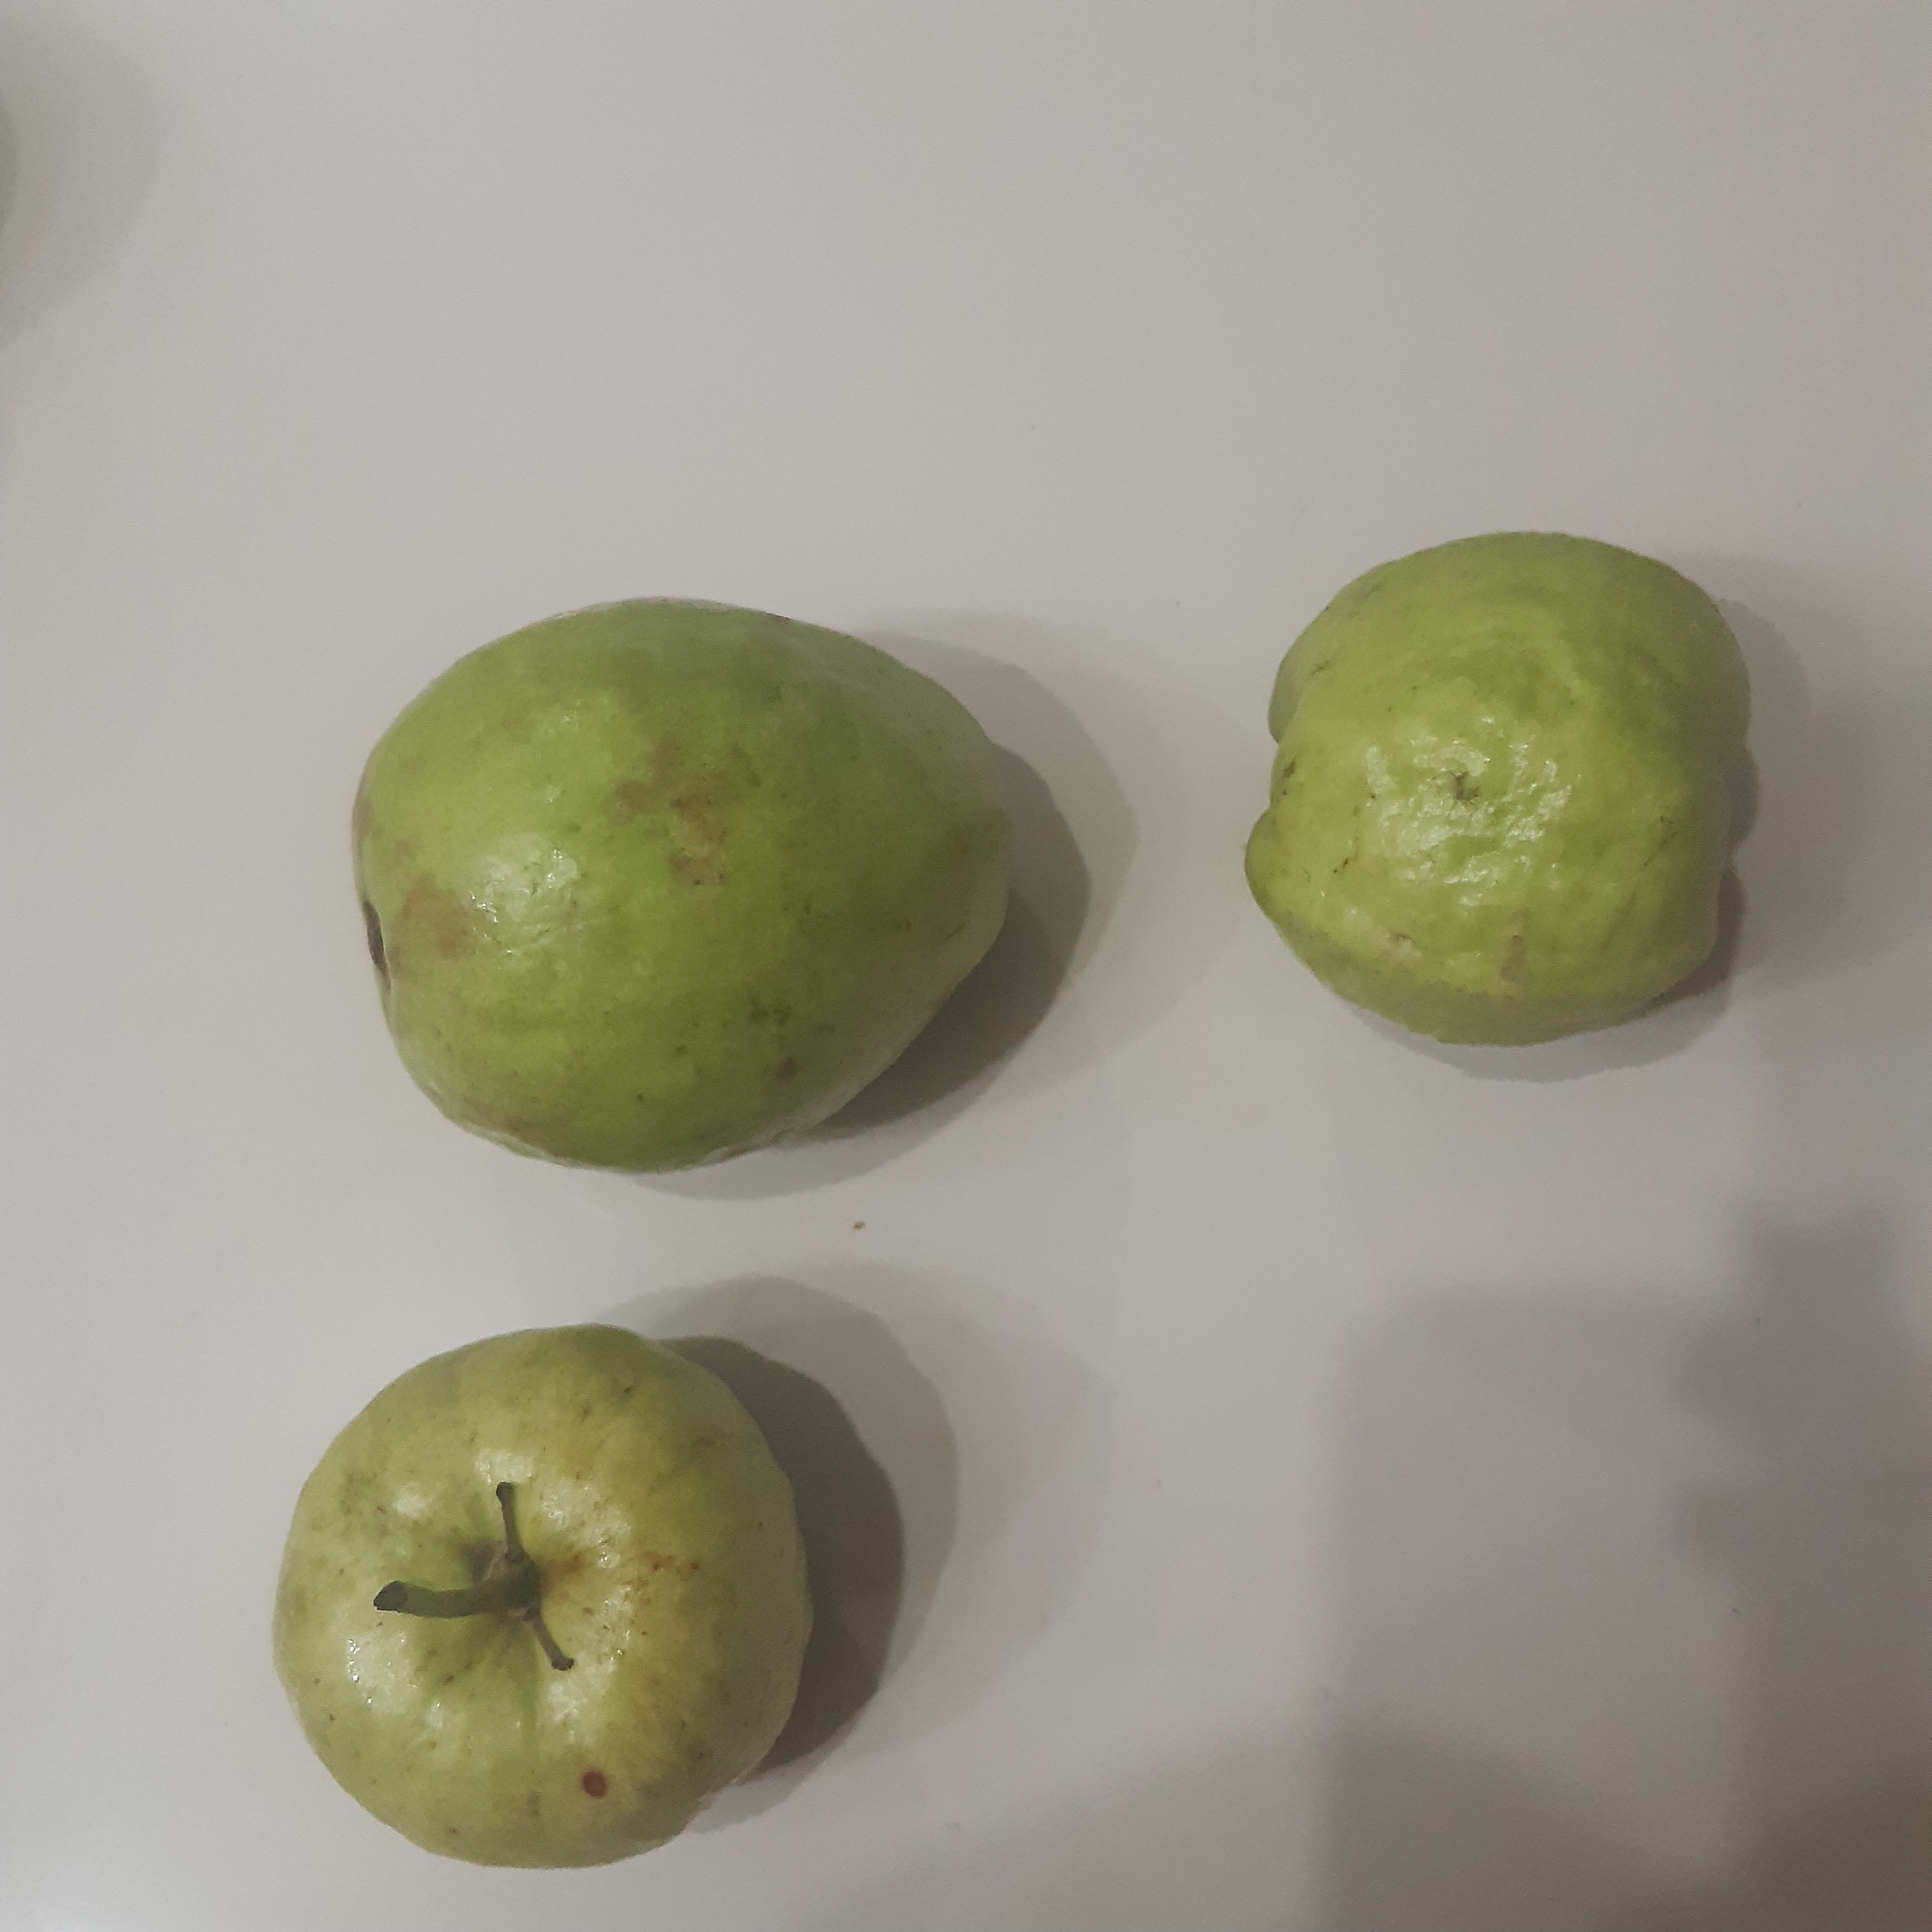Oi: (347, 596, 1010, 1175), (268, 1321, 813, 1875), (1242, 531, 1744, 1055)
